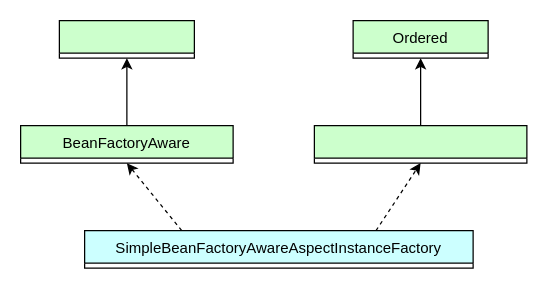
The diagram is 548 pixels wide and 289 high, and some of its shapes have lost their labels. Here are the shapes that lost their labels. From the top down, the centre of each, then its label:
pixel 126 38: Aware
pixel 420 143: AspectInstanceFactory
